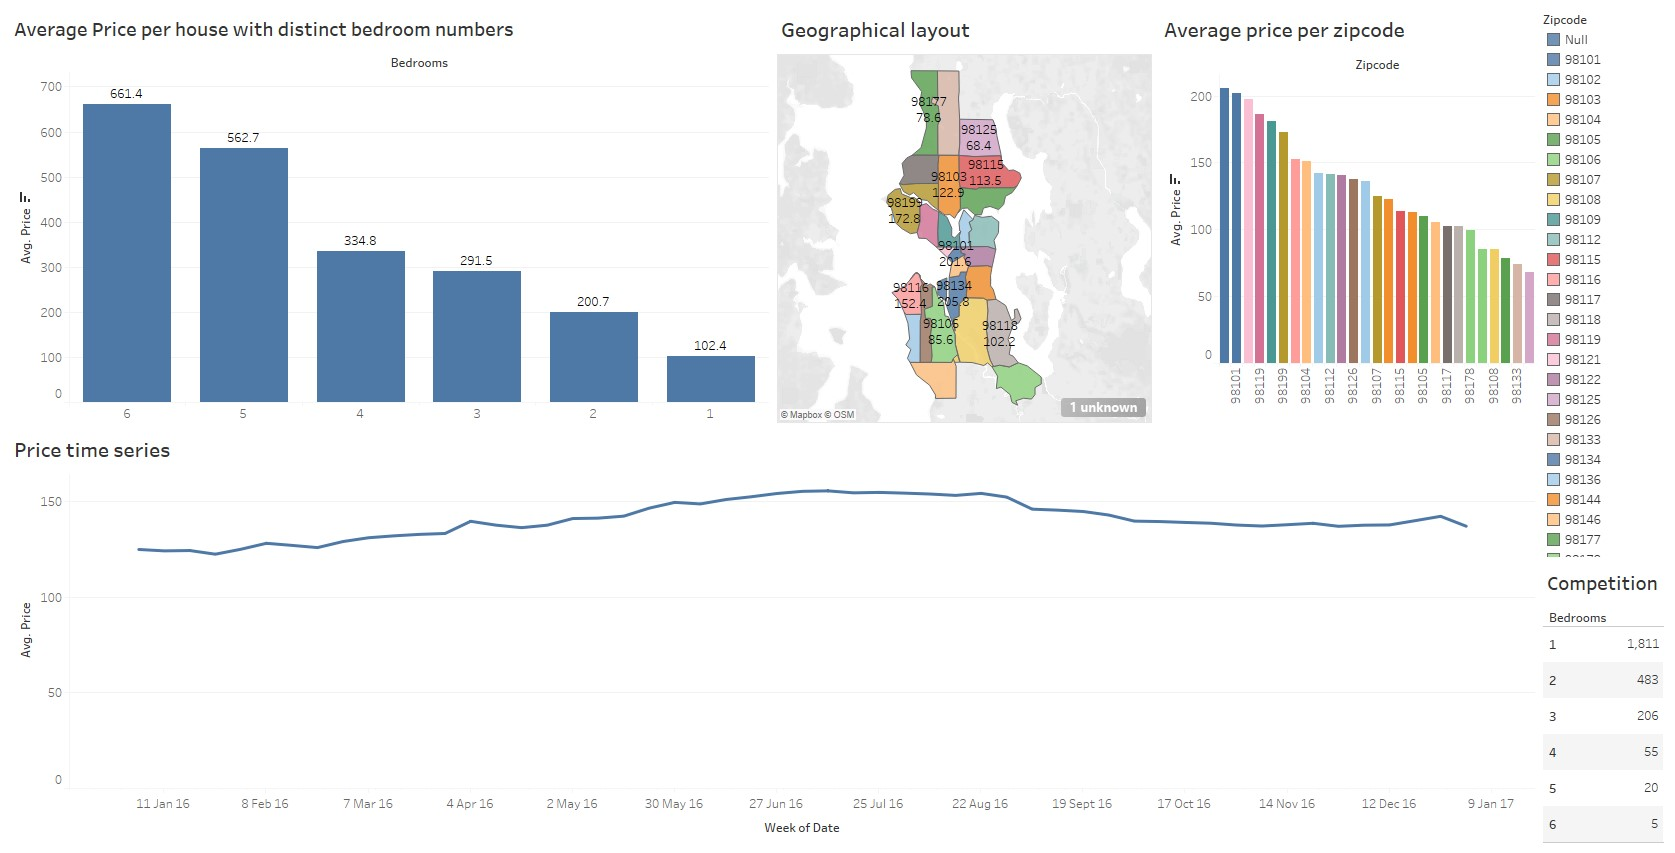

The dashboard page shown, as its layout file describes it:
{"tool":"tableau","page":{"name":"Dashboard 1","canvas":[1000,1000],"units":"permille","ordinal":0},"visuals":[{"type":"worksheet","title":"Sheet 4","mark":"Automatic","rows":["price"],"cols":["bedrooms"],"box":[4.7,9.3,448.5,490.7]},{"type":"worksheet","title":"Sheet 2","mark":"Multipolygon","box":[453.2,9.3,224.3,490.7]},{"type":"worksheet","title":"Sheet 1","mark":"Automatic","rows":["price"],"cols":["zipcode"],"box":[677.5,9.3,224.2,490.7]},{"type":"legend","title":"Sheet 2","param":"[federated.1g11lao15283ls152o2z21wwjvqy].[none:zipcode:ok]","box":[901.7,9.3,93.6,647.2]},{"type":"worksheet","title":"Sheet 3","mark":"Automatic","rows":["price"],"cols":["date"],"box":[4.7,500,897,490.7]},{"type":"worksheet","title":"Sheet 5","mark":"Automatic","rows":["bedrooms"],"box":[901.7,656.5,93.6,334.1]}]}

Visuals, with their boxes on the dashboard's canvas, which has no fixed pixel size, in thousandths of its width and height (x1, y1, x2, y2). These are canvas units, not pixel positions in the 1675x853 screenshot, which may show the page scaled, cropped or inside an application window:
"Sheet 4" worksheet: rect(5, 9, 453, 500)
"Sheet 2" worksheet (Multipolygon marks): rect(453, 9, 678, 500)
"Sheet 1" worksheet: rect(678, 9, 902, 500)
"Sheet 2" legend: rect(902, 9, 995, 656)
"Sheet 3" worksheet: rect(5, 500, 902, 991)
"Sheet 5" worksheet: rect(902, 656, 995, 991)
